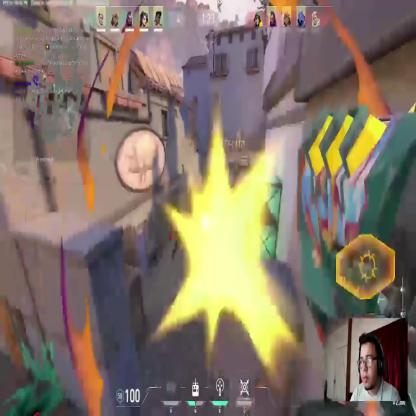enemy: (172, 217, 188, 266)
